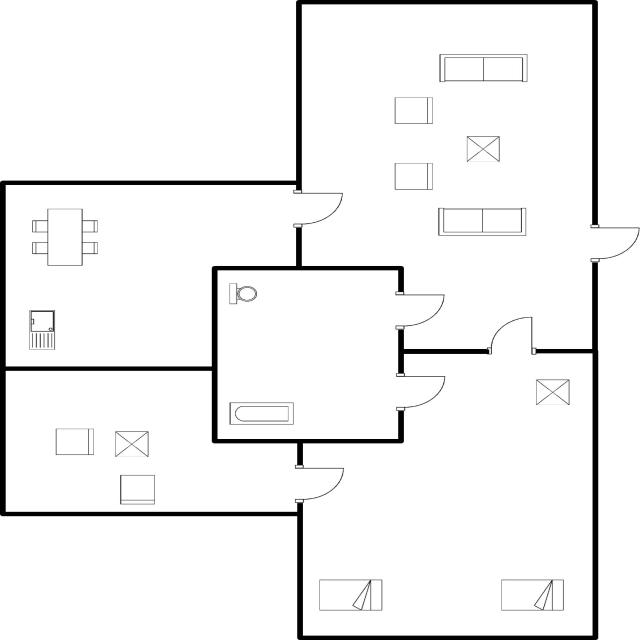bed: (314, 575, 387, 616), (496, 576, 570, 615)
coffee_table: (458, 131, 506, 167), (530, 375, 580, 409), (110, 426, 154, 459)
dining_table: (26, 204, 104, 271)
large_sink: (224, 280, 262, 309)
large_sofa: (433, 48, 537, 85), (433, 205, 530, 242)
sink: (26, 307, 60, 354)
small_sofa: (115, 471, 162, 510), (388, 159, 439, 194), (390, 94, 438, 130), (49, 425, 98, 459)
tub: (225, 396, 300, 429)
